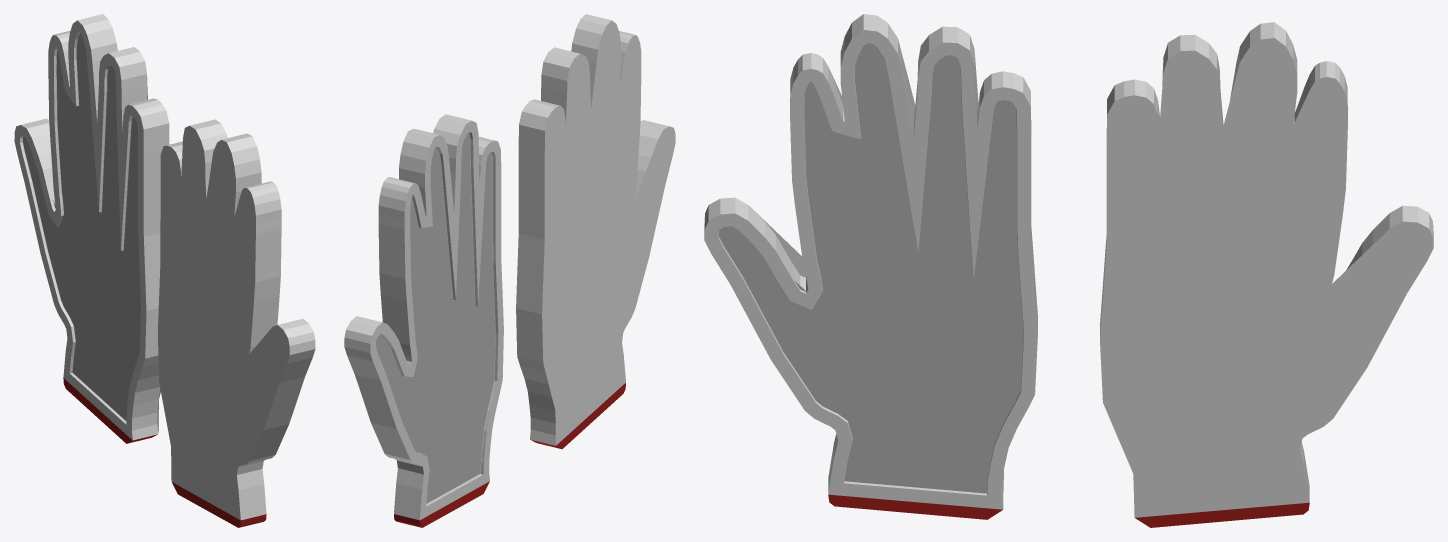
File: gloves.fbx
The picture shows the model from 3 angles, left to right: view 1: azimuth 30°, elevation 25°; view 2: azimuth 150°, elevation 25°; view 3: azimuth 270°, elevation 25°; orthographic projection. The views are drawn at different scales.
Parts seen in each view (by area): view 1: Cube.001, Cube; view 2: Cube.001, Cube; view 3: Cube.001, Cube.
Boxes of the visible parts, <box> form: Cube.001: <box>158,119,315,527</box>; Cube: <box>14,14,169,443</box>; Cube.001: <box>516,14,675,449</box>; Cube: <box>344,114,503,527</box>; Cube.001: <box>704,14,1037,519</box>; Cube: <box>1100,22,1433,527</box>.
Bounding box in the file's own units: 4.53 × 43.24 × 58.3.
